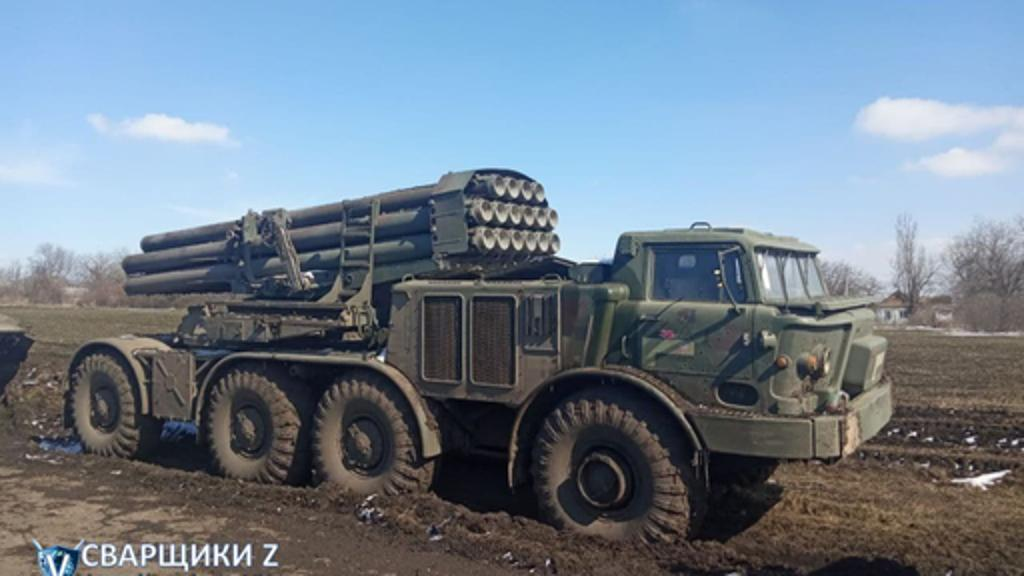MLRS: (66, 164, 894, 552)
